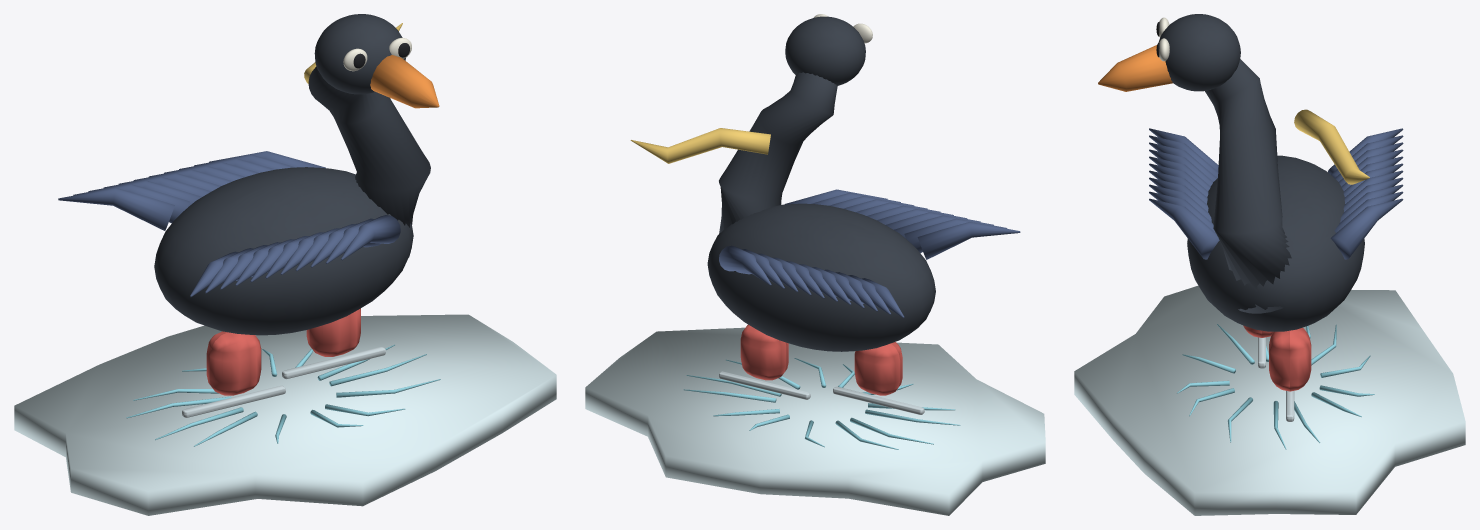
Rendered from P07_Black_Swan_Ice_Rink_R200.glb.
The picture shows the model from 3 angles, left to right: view 1: azimuth 30°, elevation 25°; view 2: azimuth 150°, elevation 25°; view 3: azimuth 270°, elevation 25°; orthographic projection. The views are drawn at different scales.
Visible parts, largest first — view 1: P07 actual asymmetric jagged ice floating rink, P07 full plush black swan realistic body, P07_SWAN_NECK_ACTOR | Black swan velvet feather iridescent b, P07_SWAN_WINGS_ACTOR | Black swan individual indigo silk win, P07_SKATES_ACTOR | Sport silly swan hat cherry red, P07_ICE_RINK_STATIC | Icy deep blue edge cracks, P07 authentic tapered amber swan beak, P07_SKATES_ACTOR | Polished figure-skate bright chrome blade; view 2: P07 actual asymmetric jagged ice floating rink, P07 full plush black swan realistic body, P07_SWAN_NECK_ACTOR | Black swan velvet feather iridescent b, P07_SWAN_WINGS_ACTOR | Black swan individual indigo silk win, P07_SKATES_ACTOR | Sport silly swan hat cherry red, P07_ICE_RINK_STATIC | Icy deep blue edge cracks, P07 fluttering gold prize scarf, P07_SKATES_ACTOR | Polished figure-skate bright chrome blade; view 3: P07 actual asymmetric jagged ice floating rink, P07_SWAN_NECK_ACTOR | Black swan velvet feather iridescent b, P07 full plush black swan realistic body, P07_SWAN_WINGS_ACTOR | Black swan individual indigo silk win, P07_SKATES_ACTOR | Sport silly swan hat cherry red, P07_ICE_RINK_STATIC | Icy deep blue edge cracks, P07 authentic tapered amber swan beak, P07 fluttering gold prize scarf, P07_SKATES_ACTOR | Polished figure-skate bright chrome blade.
Boxes of the visible parts, left/top/right/bottom form: P07 actual asymmetric jagged ice floating rink: left=14, top=314, right=556, bottom=515; P07 full plush black swan realistic body: left=154, top=167, right=413, bottom=335; P07_SWAN_NECK_ACTOR | Black swan velvet feather iridescent b: left=308, top=14, right=430, bottom=257; P07_SWAN_WINGS_ACTOR | Black swan individual indigo silk win: left=58, top=151, right=400, bottom=296; P07_SKATES_ACTOR | Sport silly swan hat cherry red: left=206, top=308, right=360, bottom=395; P07_ICE_RINK_STATIC | Icy deep blue edge cracks: left=126, top=344, right=440, bottom=446; P07 authentic tapered amber swan beak: left=370, top=55, right=439, bottom=108; P07_SKATES_ACTOR | Polished figure-skate bright chrome blade: left=182, top=347, right=385, bottom=417; P07 actual asymmetric jagged ice floating rink: left=585, top=327, right=1045, bottom=515; P07 full plush black swan realistic body: left=707, top=203, right=935, bottom=351; P07_SWAN_NECK_ACTOR | Black swan velvet feather iridescent b: left=719, top=16, right=865, bottom=233; P07_SWAN_WINGS_ACTOR | Black swan individual indigo silk win: left=719, top=189, right=1020, bottom=318; P07_SKATES_ACTOR | Sport silly swan hat cherry red: left=740, top=324, right=902, bottom=395; P07_ICE_RINK_STATIC | Icy deep blue edge cracks: left=683, top=358, right=960, bottom=449; P07 fluttering gold prize scarf: left=630, top=128, right=770, bottom=163; P07_SKATES_ACTOR | Polished figure-skate bright chrome blade: left=719, top=371, right=924, bottom=414; P07 actual asymmetric jagged ice floating rink: left=1074, top=285, right=1465, bottom=515; P07_SWAN_NECK_ACTOR | Black swan velvet feather iridescent b: left=1158, top=14, right=1291, bottom=313; P07 full plush black swan realistic body: left=1187, top=155, right=1364, bottom=331; P07_SWAN_WINGS_ACTOR | Black swan individual indigo silk win: left=1149, top=128, right=1403, bottom=259; P07_SKATES_ACTOR | Sport silly swan hat cherry red: left=1243, top=325, right=1311, bottom=391; P07_ICE_RINK_STATIC | Icy deep blue edge cracks: left=1177, top=324, right=1374, bottom=449; P07 authentic tapered amber swan beak: left=1098, top=45, right=1172, bottom=91; P07 fluttering gold prize scarf: left=1294, top=109, right=1369, bottom=184; P07_SKATES_ACTOR | Polished figure-skate bright chrome blade: left=1258, top=337, right=1294, bottom=421.
Bounding box in the file's own units: 2.18 × 1.92 × 1.67.
10 materials, 5 textured.
